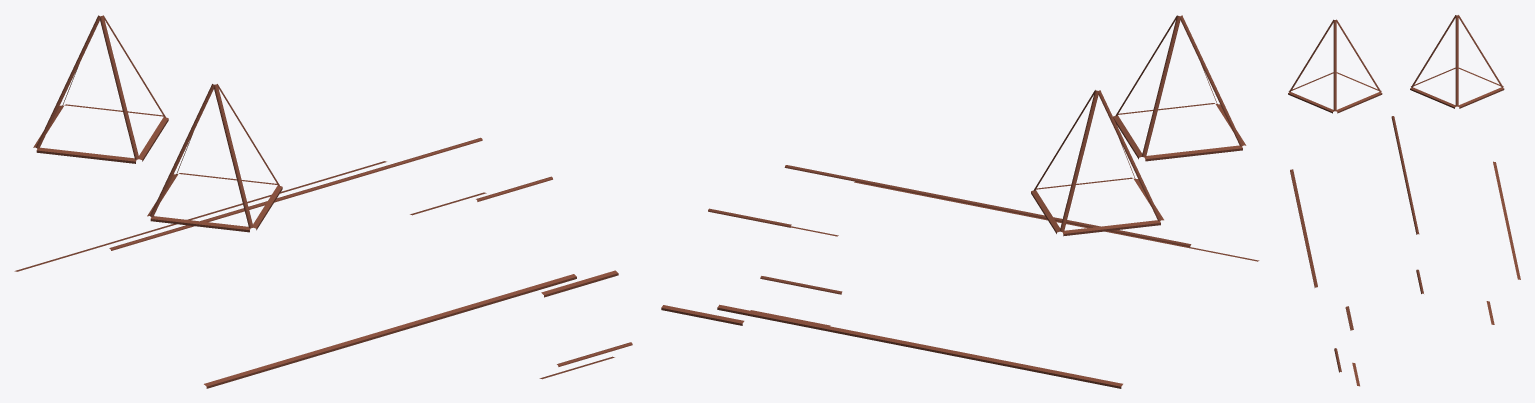
3 renders of one model, left to right at view 1: azimuth 30°, elevation 25°; view 2: azimuth 150°, elevation 25°; view 3: azimuth 270°, elevation 25°, orthographic. The views are drawn at different scales.
Parts seen in each view (by area): view 1: detail; view 2: detail; view 3: detail.
Boxes of the visible parts, <box> form: detail: <box>14,15,632,388</box>; detail: <box>661,15,1259,388</box>; detail: <box>1288,15,1520,386</box>.
Bounding box in the file's own units: 35.93 × 26.92 × 23.33.
